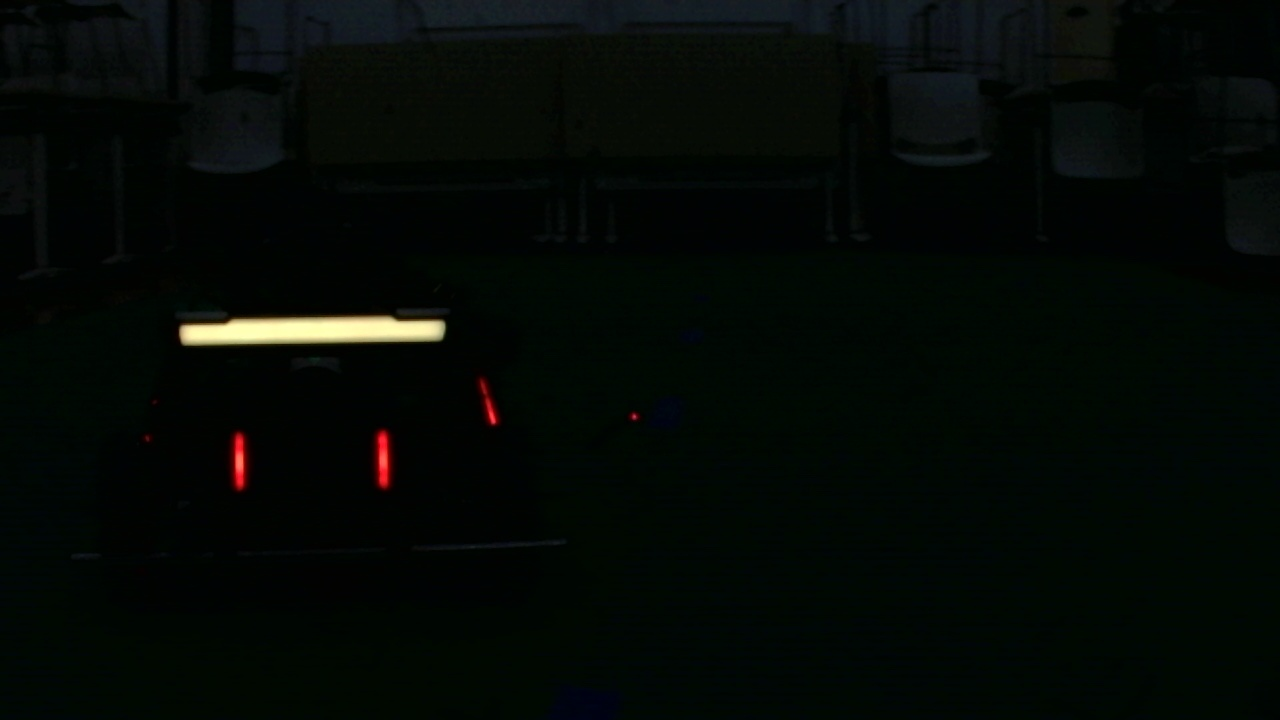lamp: (228, 426, 248, 496), (376, 422, 388, 491)
pair1: (230, 426, 392, 501)
